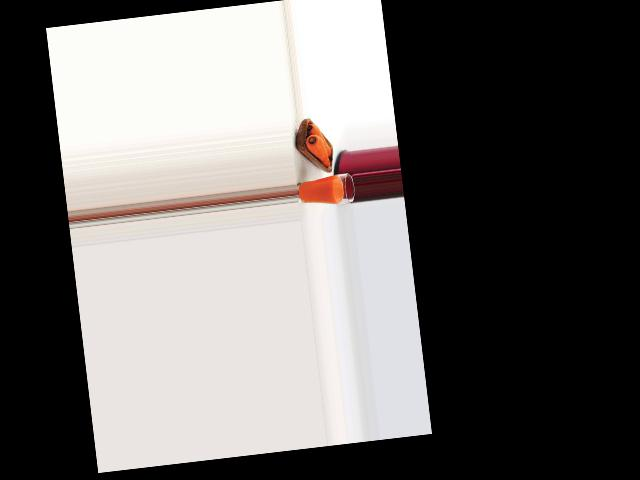carrot: (304, 120, 330, 155)
